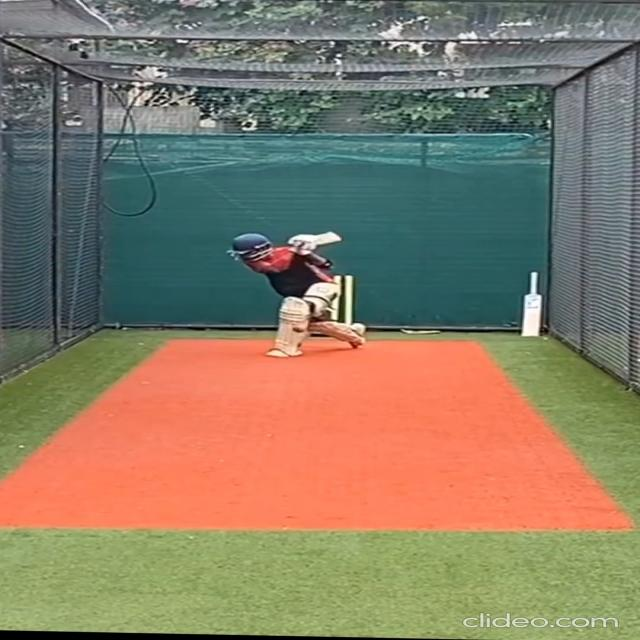ball: (289, 322, 310, 334)
stump: (329, 274, 360, 334)
